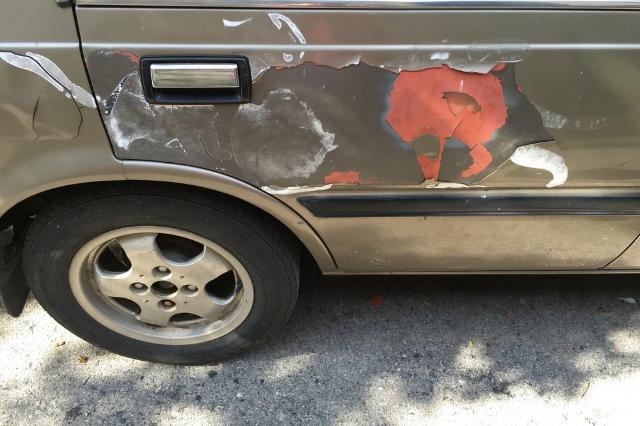crack: (0, 50, 88, 140), (29, 93, 42, 142)
scratch: (82, 48, 577, 191)
